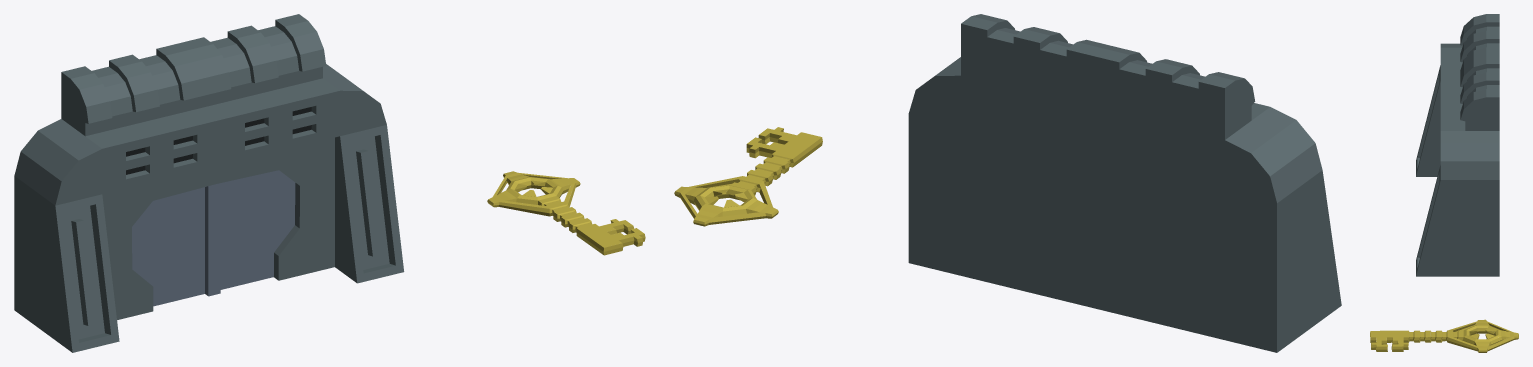
File: bunker y llave.fbx
The picture shows the model from 3 angles, left to right: view 1: azimuth 30°, elevation 25°; view 2: azimuth 150°, elevation 25°; view 3: azimuth 270°, elevation 25°; orthographic projection. The views are drawn at different scales.
Visible parts, largest first — view 1: Marco del bunker, Llave; view 2: Marco del bunker, Llave; view 3: Marco del bunker, Llave.
Part boxes in pixels (x1,y1,x2,y2): Marco del bunker: [14, 14, 404, 352]; Llave: [487, 171, 645, 255]; Marco del bunker: [908, 14, 1341, 352]; Llave: [674, 127, 822, 226]; Marco del bunker: [1416, 14, 1499, 276]; Llave: [1370, 319, 1518, 352].
Size of the model in its own units: 2661 by 1059 by 866.
Materials: 4 (3 with a texture image).
